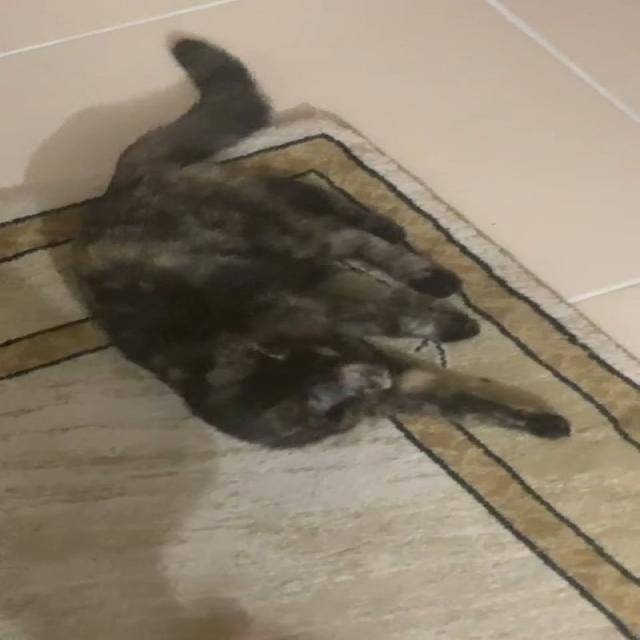authorized: (40, 30, 572, 451)
